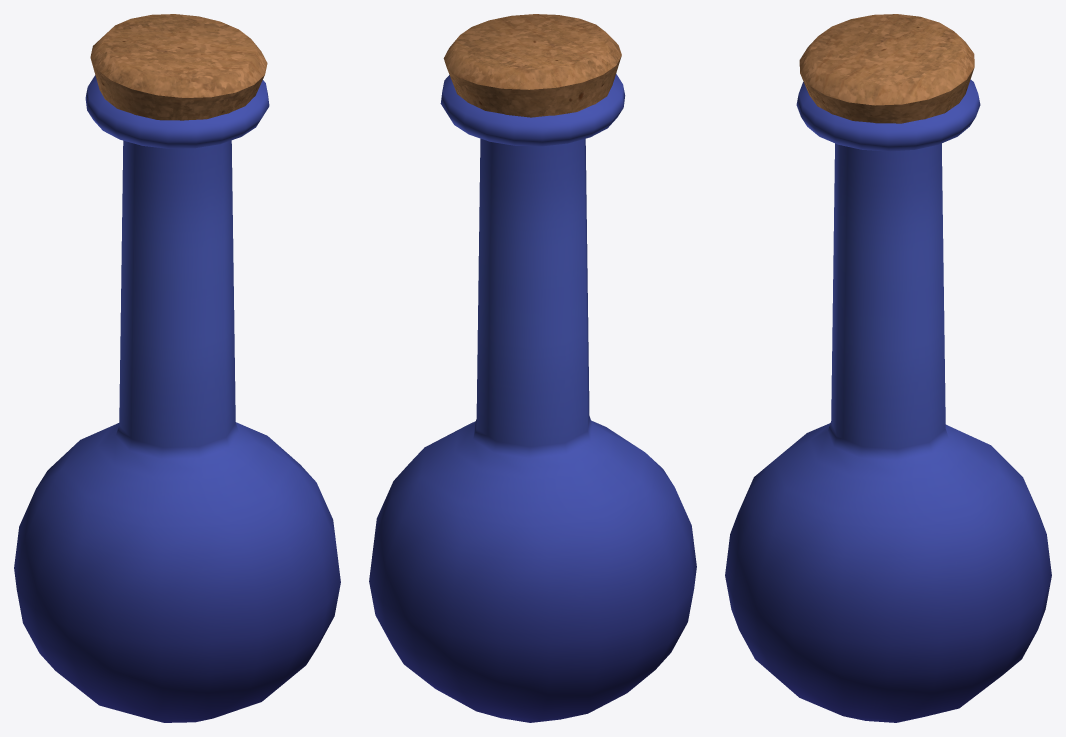
Rendered from SM_Potion_Props_Bottle_Tiny_03_A.fbx.
3 views of the same model, side by side, from view 1: azimuth 30°, elevation 25°; view 2: azimuth 150°, elevation 25°; view 3: azimuth 270°, elevation 25° (orthographic).
Visible parts, largest first — view 1: SM_Potion_Props_Bottle_Tiny_03_A_LOD0; view 2: SM_Potion_Props_Bottle_Tiny_03_A_LOD0; view 3: SM_Potion_Props_Bottle_Tiny_03_A_LOD0.
Boxes of the visible parts, x1,y1,x2,y2 form: SM_Potion_Props_Bottle_Tiny_03_A_LOD0: [14, 14, 340, 722]; SM_Potion_Props_Bottle_Tiny_03_A_LOD0: [369, 14, 696, 722]; SM_Potion_Props_Bottle_Tiny_03_A_LOD0: [725, 14, 1051, 722].
Size of what is drawn, in the model's own units: 5.77 by 12.79 by 5.77.
